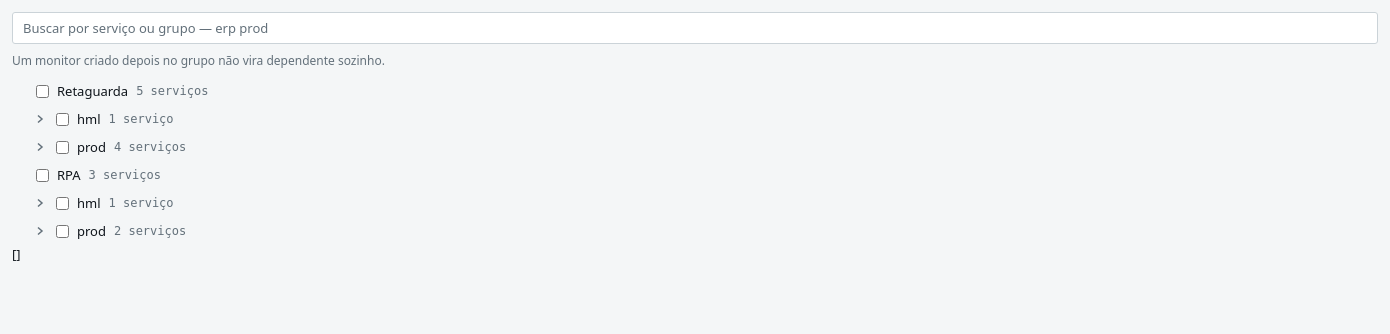
Scenario: MonitorTree: dependentes › diz de quem depende o monitor cujo pai está noutro grupo
What coordinates should you click on to do the following:
click the button named "Abrir prod, RPA"
I would click on:
 (40, 231)
Its box is [28,217,52,245].
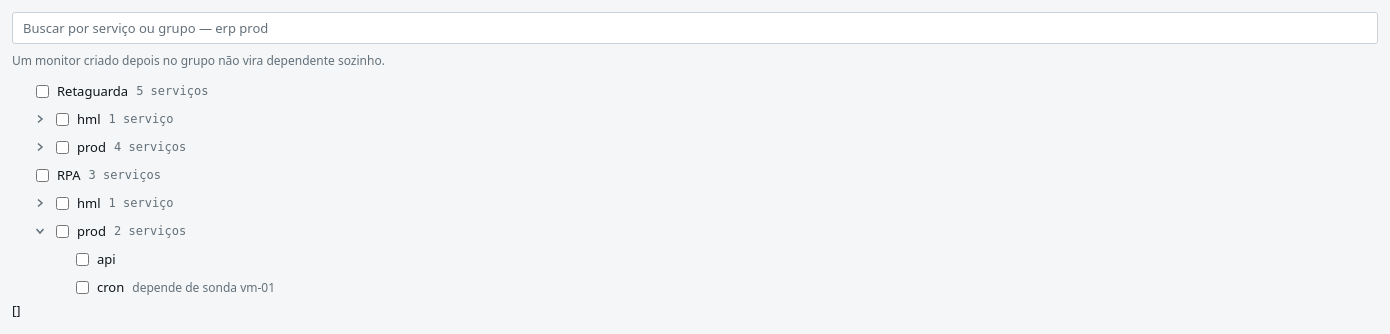
Expected: the label "cron depende de sonda vm-01" is shown, [75,278,275,305]
